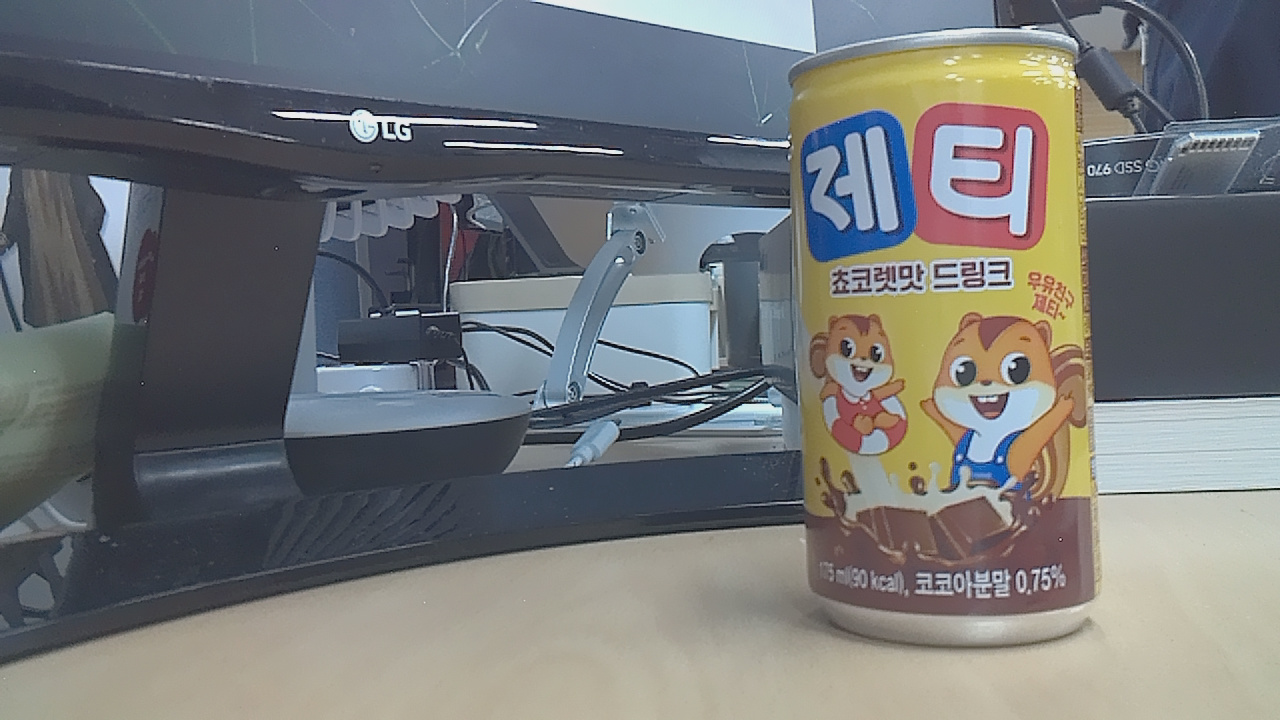jetty: (783, 18, 1122, 649)
